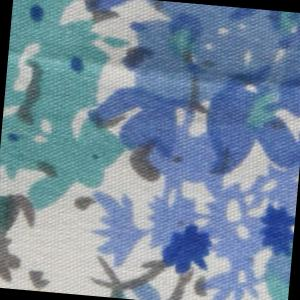Wrinkle: (7, 38, 300, 103)
